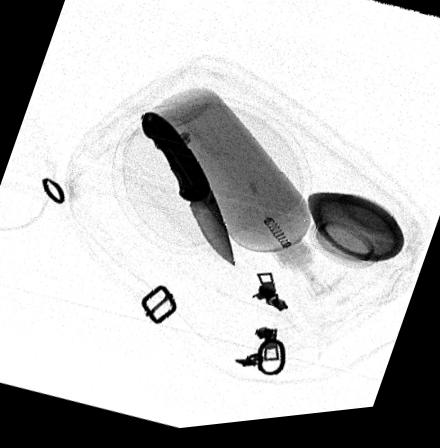Knife: (141, 115, 235, 273)
